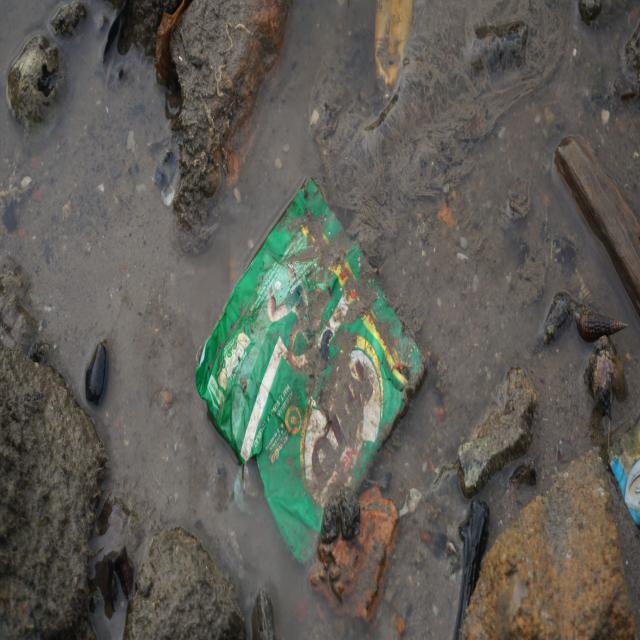Bungkus Minuman: (194, 174, 430, 573)
